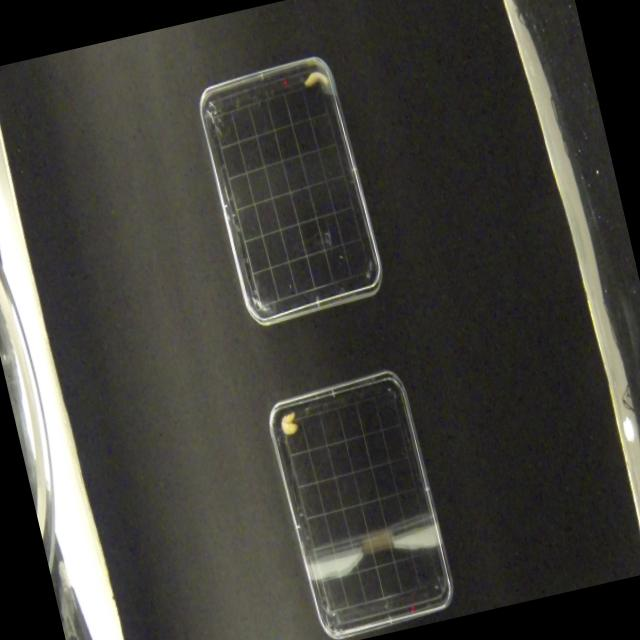larva: (278, 408, 304, 440), (302, 66, 330, 92)
